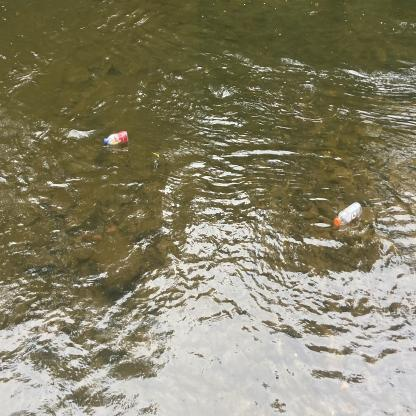trash: (327, 198, 366, 233), (100, 126, 132, 150)
